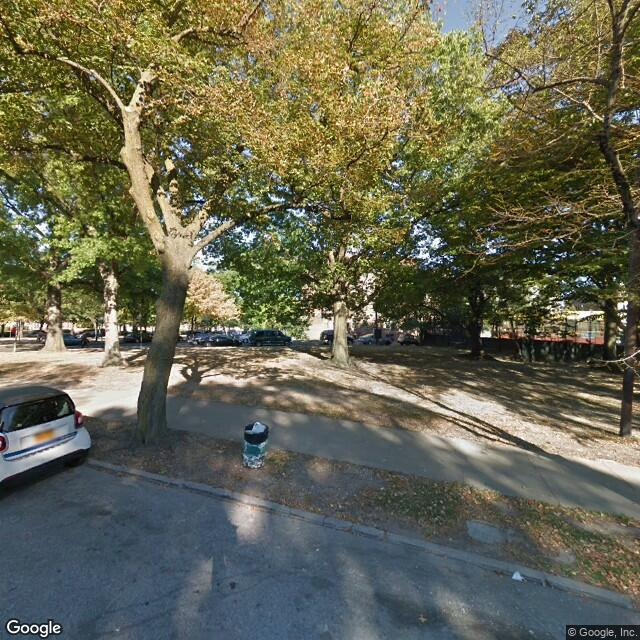litter: (509, 569, 524, 583), (376, 483, 387, 492), (525, 626, 536, 633), (313, 546, 325, 552), (113, 625, 121, 630)
